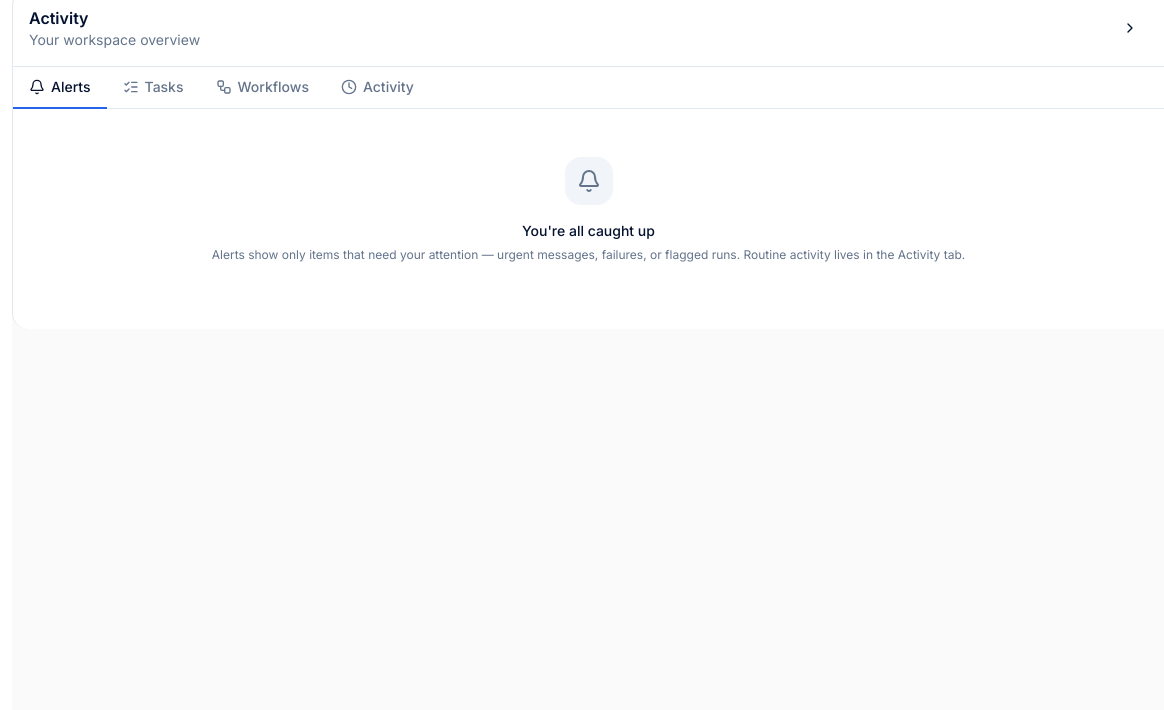
Test case: ContextPanel › shows workflow retry status and last failure details
This screenshot has width=1164, height=710.
Step 1. Click the button "Workflows" → [262, 88], box [200,67,325,109]
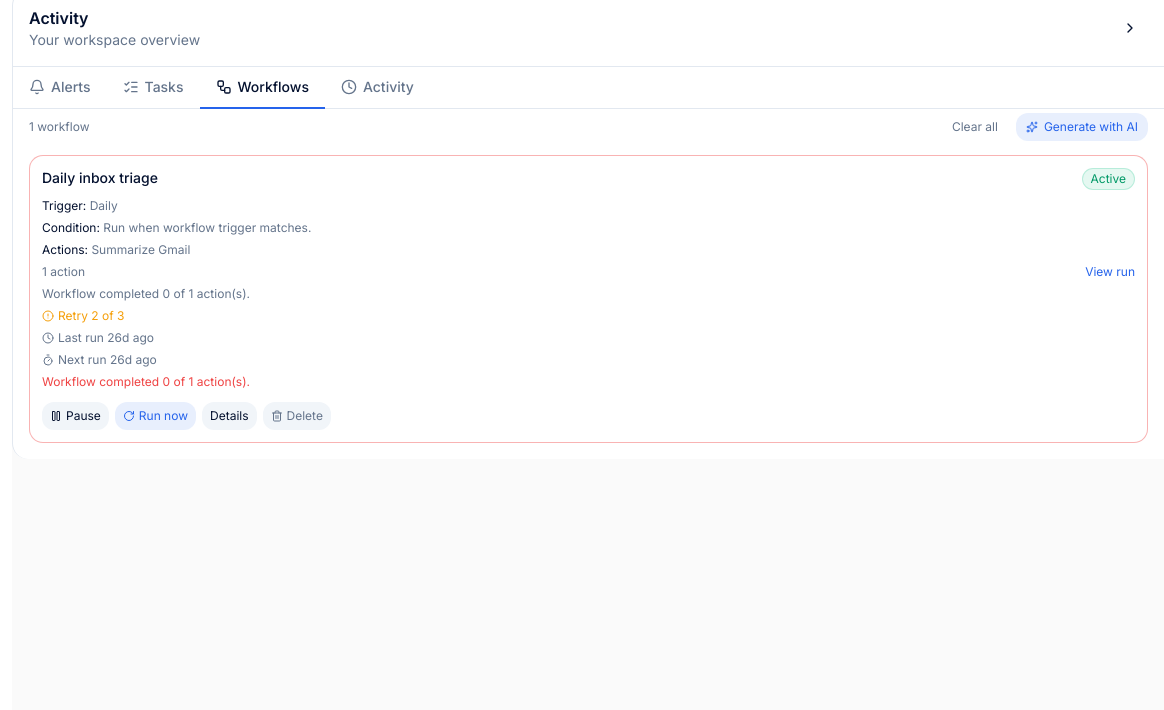
Check: the text "Retry 2 of 3" is shown, box [58,308,124,324]
Step 2. Click the button "Details" → [229, 416], box [202,402,256,430]
(page scrolled)
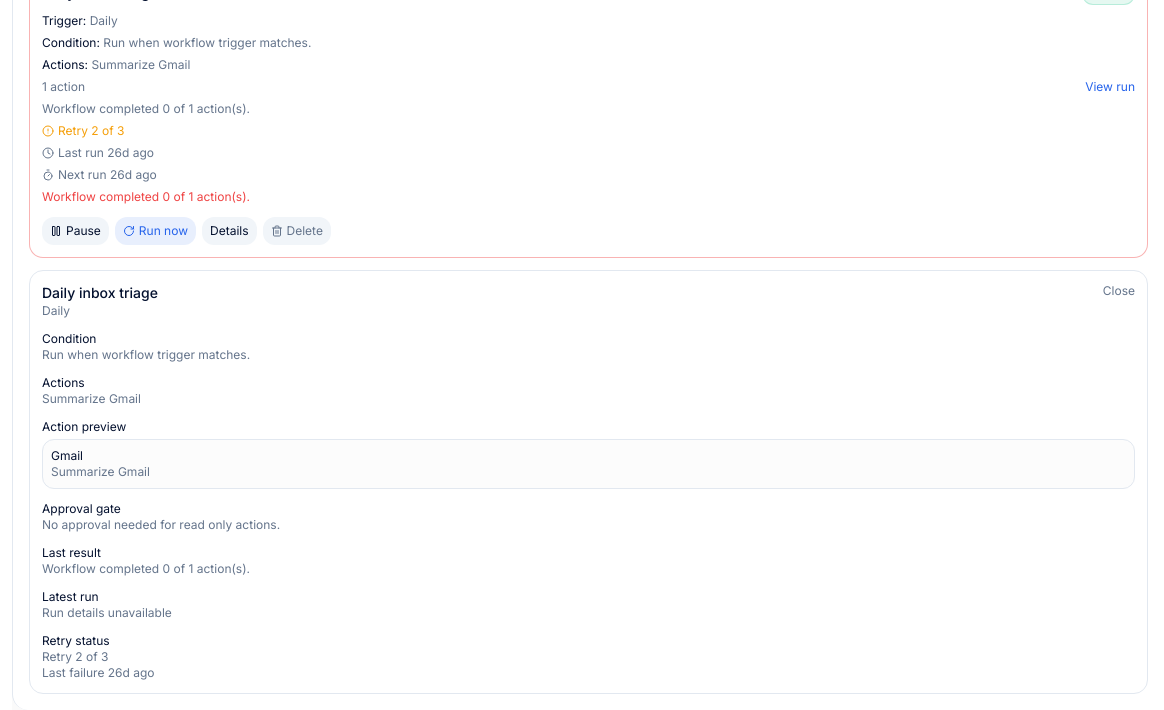
Check: the text "Retry status" is shown, box [42,633,110,648]
Check: the text "Last failure 26d ago" is shown, box [42,665,154,680]
